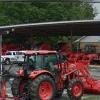Tractor: (15, 39, 97, 100)
